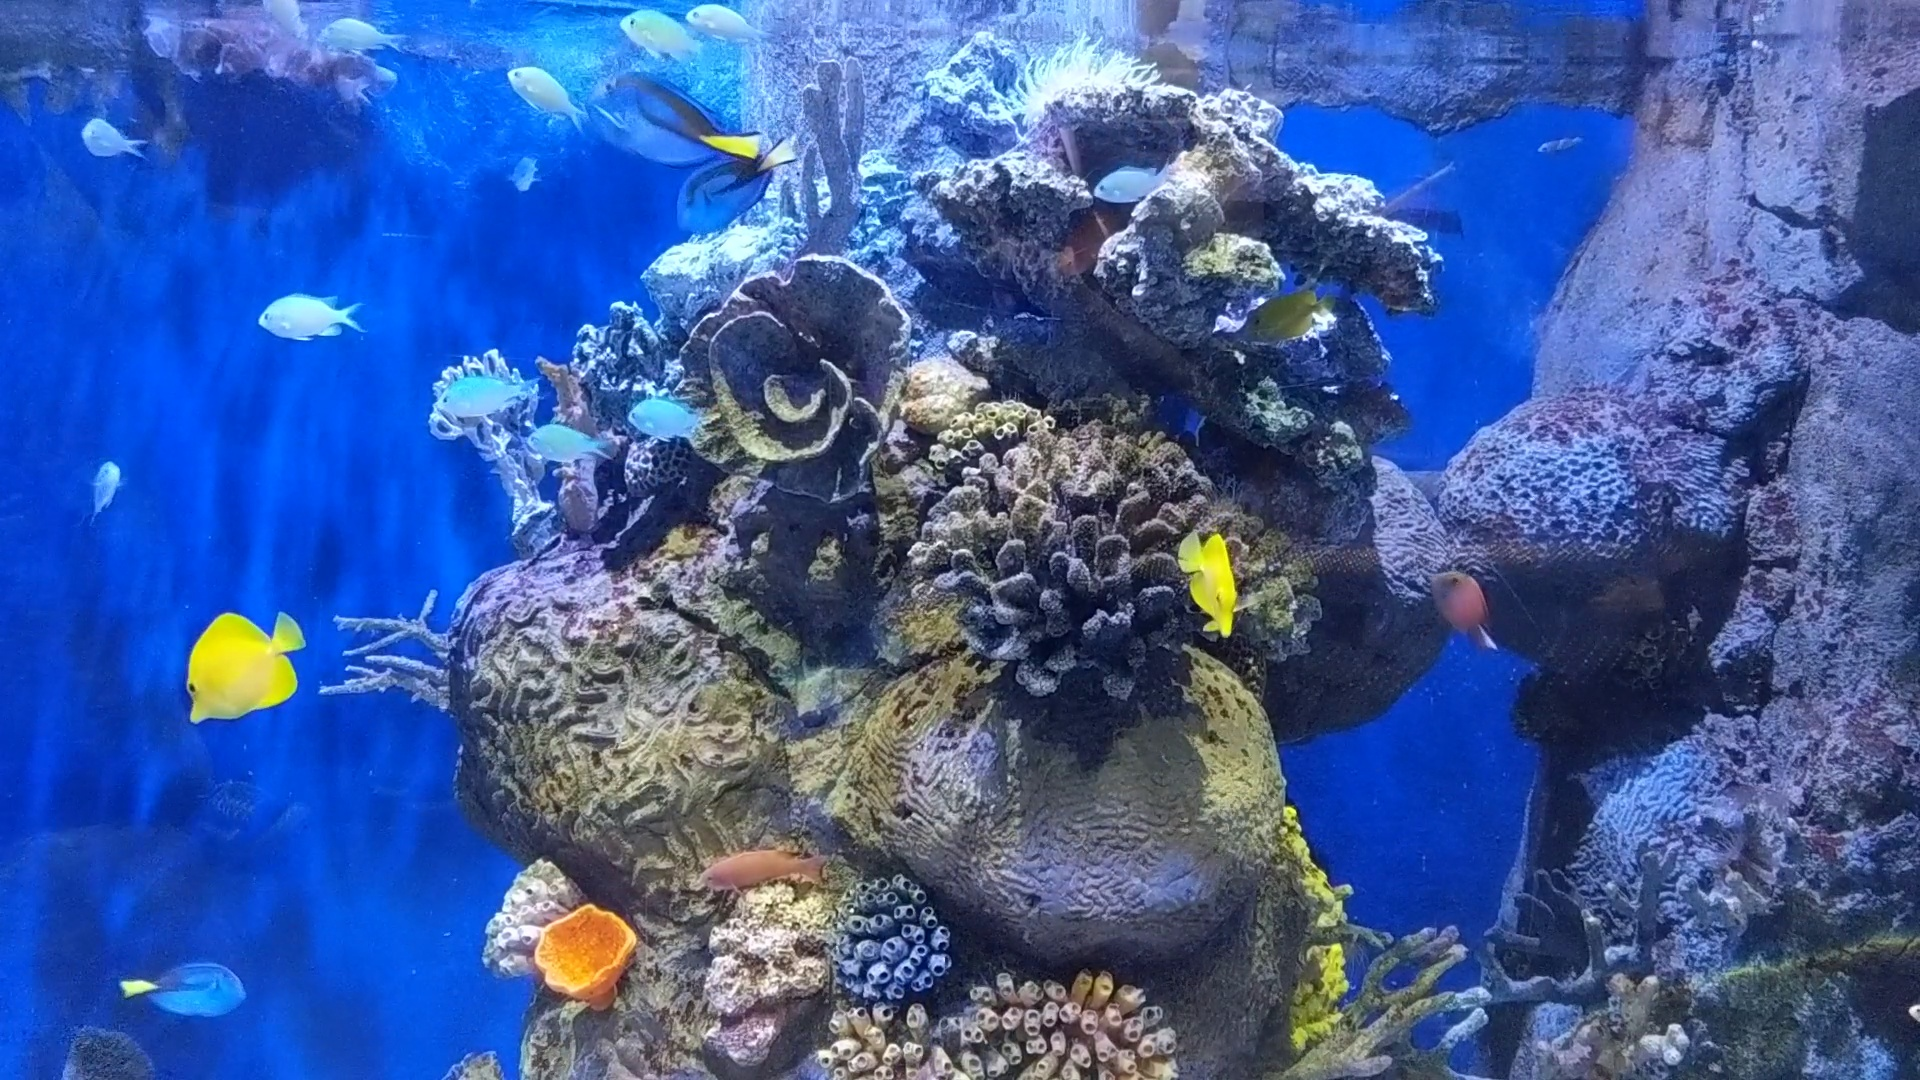blue tang surgeonfish: (564, 55, 764, 171), (666, 125, 815, 231), (117, 955, 256, 1023)
damselfish: (607, 375, 719, 454), (1085, 145, 1183, 214), (616, 0, 711, 65), (256, 295, 368, 349), (518, 407, 607, 473), (673, 0, 779, 51), (75, 109, 156, 177), (510, 65, 593, 129), (434, 371, 538, 418), (313, 9, 402, 51), (79, 456, 125, 522)
pink fish: (1418, 550, 1506, 669)
saddle butterfly fish: (164, 588, 313, 738), (1167, 516, 1250, 654)
